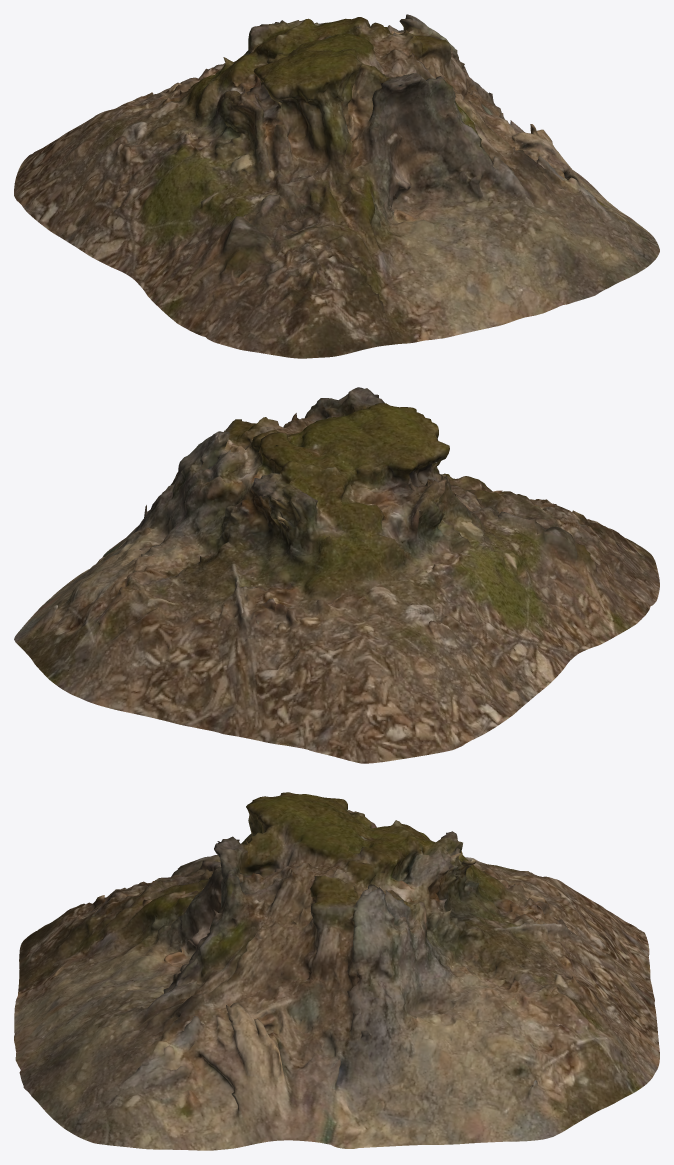
The model's file is tree-stump.glb.
3 views of the same model, one above another, from view 1: azimuth 30°, elevation 25°; view 2: azimuth 150°, elevation 25°; view 3: azimuth 270°, elevation 25° (orthographic). The views are drawn at different scales.
Visible parts, largest first — view 1: tree_stump_01; view 2: tree_stump_01; view 3: tree_stump_01.
Boxes of the visible parts, x1,y1,x2,y2 form: tree_stump_01: (14,14,659,358); tree_stump_01: (14,387,659,763); tree_stump_01: (14,792,659,1150).
Size of the model in its own units: 1.43 by 0.5727 by 1.59.
Materials: 1 (1 with a texture image).
